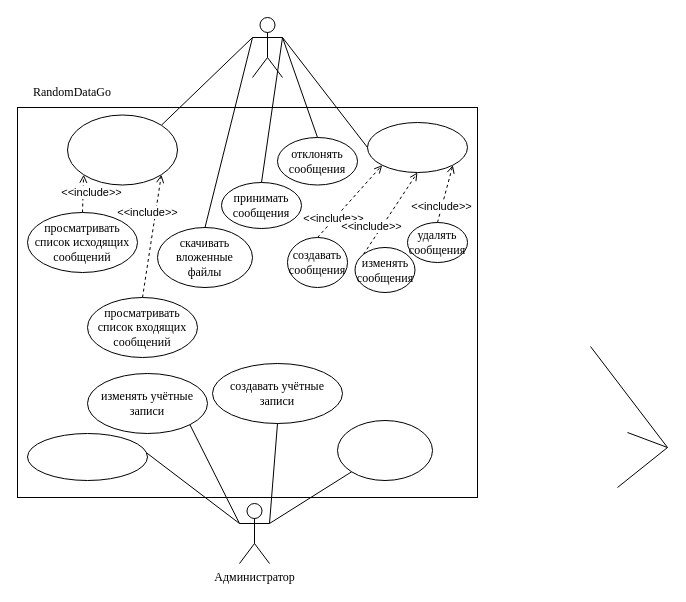
Image size: 686x602. Some labels were removed from this diagram. The shapes that lost their labels are listed below. From the top down, each one's box as (x1, y1, x2, y2) in pixels, then its label:
(252, 16, 282, 78): Пользователь
(66, 114, 178, 185): просматривать список сообщений
(366, 122, 468, 172): изменять список своих сообщений
(26, 432, 148, 480): получать список учётных записей
(336, 420, 432, 480): удалять учётные записи
